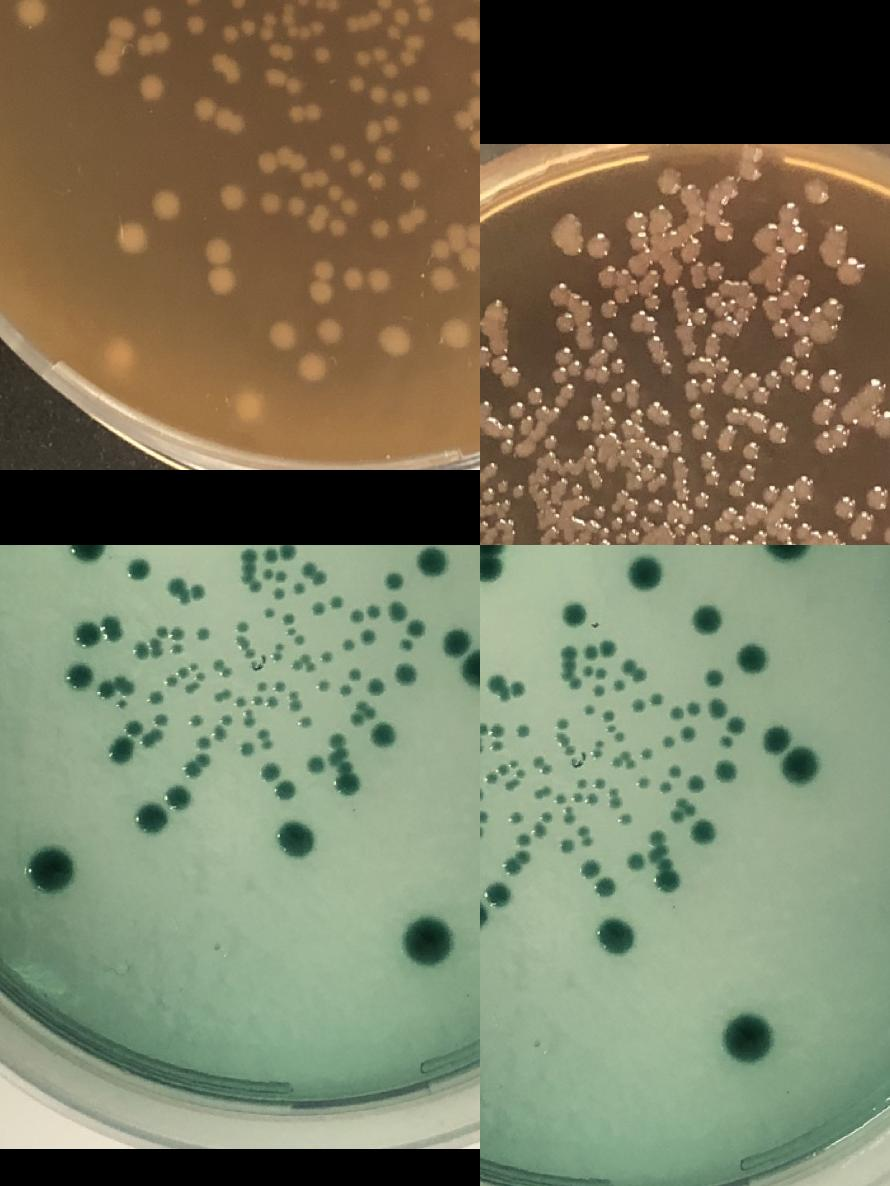pddamselae: (756, 721, 823, 786), (260, 10, 326, 63), (298, 168, 360, 217), (436, 624, 480, 689), (92, 14, 134, 74), (429, 221, 480, 266), (383, 0, 434, 41), (724, 1016, 770, 1060), (404, 920, 449, 964), (203, 236, 236, 295), (195, 97, 245, 132), (352, 44, 398, 80), (30, 849, 72, 888), (256, 144, 308, 175), (305, 744, 351, 776), (625, 842, 671, 874), (278, 822, 314, 856), (134, 802, 170, 836), (690, 604, 726, 638), (598, 919, 634, 953), (362, 112, 402, 142), (734, 640, 769, 674), (628, 556, 663, 590), (413, 545, 449, 577), (220, 16, 256, 44), (239, 550, 262, 593), (310, 258, 333, 300), (398, 32, 426, 66), (560, 647, 582, 690), (394, 204, 426, 232), (452, 97, 480, 128), (441, 318, 469, 348), (428, 263, 456, 293), (380, 326, 408, 356), (314, 313, 342, 343), (296, 354, 324, 384), (268, 318, 296, 348), (218, 180, 246, 210), (152, 190, 180, 220), (117, 221, 145, 251), (480, 545, 502, 583), (135, 30, 171, 53), (181, 752, 210, 780), (501, 849, 530, 877), (306, 201, 330, 233), (656, 857, 679, 890), (336, 760, 358, 794), (286, 101, 323, 121), (283, 613, 306, 645), (603, 710, 626, 742), (365, 0, 392, 27), (451, 20, 480, 43), (138, 75, 164, 99), (765, 545, 809, 558), (610, 750, 638, 770), (18, 0, 44, 21), (69, 545, 105, 560), (290, 653, 318, 672), (302, 563, 326, 584), (622, 660, 646, 681), (404, 617, 426, 639), (396, 662, 418, 684), (383, 569, 405, 591), (372, 724, 394, 746), (275, 779, 297, 801), (258, 761, 280, 783), (166, 785, 188, 807), (127, 558, 149, 580), (109, 741, 131, 763), (100, 616, 122, 638), (76, 622, 98, 644), (69, 664, 91, 686), (724, 714, 746, 736), (716, 759, 738, 781), (706, 698, 728, 720), (703, 666, 725, 688), (685, 774, 707, 796), (595, 876, 617, 898), (578, 858, 600, 880), (486, 882, 508, 904), (386, 601, 408, 622), (365, 678, 387, 699), (563, 602, 585, 623), (691, 822, 714, 842), (176, 660, 198, 679), (354, 700, 377, 718), (412, 84, 432, 104), (400, 170, 420, 190), (390, 88, 410, 108), (373, 144, 393, 164), (370, 270, 390, 290), (368, 83, 388, 103), (346, 158, 366, 178), (346, 74, 366, 94), (344, 267, 364, 287), (288, 195, 308, 215), (285, 75, 305, 95), (143, 7, 163, 27), (213, 658, 233, 678), (141, 728, 161, 748), (533, 755, 553, 775), (497, 757, 518, 776), (674, 798, 696, 816), (370, 219, 390, 238), (328, 218, 348, 237), (238, 638, 256, 659), (558, 735, 576, 756), (366, 170, 384, 190), (313, 46, 333, 64), (188, 12, 206, 32), (252, 694, 276, 709), (572, 791, 596, 806), (112, 678, 134, 694), (314, 0, 343, 12), (262, 194, 280, 213), (480, 899, 490, 933), (212, 687, 234, 702), (330, 142, 348, 160), (533, 784, 554, 799), (470, 56, 480, 87), (258, 728, 272, 750), (287, 690, 301, 711), (607, 787, 621, 808), (578, 825, 592, 846), (215, 0, 247, 9), (148, 637, 162, 657), (125, 720, 142, 736), (272, 642, 286, 661), (592, 739, 606, 758), (243, 709, 255, 728), (563, 806, 575, 825), (471, 130, 480, 150), (212, 727, 227, 739), (298, 715, 312, 727), (280, 545, 294, 557), (262, 548, 276, 560), (195, 735, 209, 747), (194, 670, 208, 682), (190, 584, 204, 596), (184, 682, 198, 694), (170, 581, 184, 593), (148, 691, 162, 703), (134, 645, 148, 657), (618, 812, 632, 824), (600, 642, 614, 654), (582, 702, 596, 714), (582, 645, 596, 657), (560, 839, 574, 851), (532, 824, 546, 836), (515, 832, 529, 844), (514, 767, 528, 779), (510, 681, 524, 693), (504, 779, 518, 791), (490, 678, 504, 690), (263, 605, 276, 617), (720, 735, 733, 747), (400, 638, 412, 650), (368, 605, 380, 617), (362, 629, 374, 641), (350, 714, 362, 726), (350, 610, 362, 622), (350, 667, 362, 679), (342, 639, 354, 651), (339, 684, 351, 696), (330, 596, 342, 608), (321, 650, 333, 662), (316, 680, 328, 692), (312, 602, 324, 614), (293, 581, 305, 593), (275, 569, 287, 581), (272, 679, 284, 691), (272, 587, 284, 599), (261, 567, 273, 579), (256, 680, 268, 692), (241, 742, 253, 754), (236, 620, 248, 632), (233, 696, 245, 708), (220, 713, 232, 725), (196, 627, 208, 639), (190, 715, 202, 727), (179, 593, 191, 605), (170, 643, 182, 655), (170, 628, 182, 640), (165, 674, 177, 686), (156, 626, 168, 638), (155, 714, 167, 726), (115, 698, 127, 710), (688, 702, 700, 714), (682, 726, 694, 738), (670, 811, 682, 823), (670, 707, 682, 719), (670, 764, 682, 776), (662, 736, 674, 748), (659, 781, 671, 793), (650, 693, 662, 705), (641, 747, 653, 759), (636, 777, 648, 789), (632, 699, 644, 711), (613, 678, 625, 690), (595, 666, 607, 678), (592, 776, 604, 788), (592, 684, 604, 696), (581, 664, 593, 676), (576, 777, 588, 789), (553, 793, 565, 805), (540, 810, 552, 822), (516, 724, 528, 736), (510, 812, 522, 824), (499, 690, 511, 702), (490, 740, 502, 752), (490, 725, 502, 737), (485, 771, 497, 783), (557, 717, 568, 729), (183, 0, 202, 6), (480, 723, 488, 735), (480, 811, 487, 823)
sinniae: (762, 268, 818, 394), (598, 505, 642, 545), (547, 276, 576, 336), (552, 345, 583, 399), (812, 421, 852, 456), (864, 479, 890, 526), (836, 257, 870, 291), (738, 438, 762, 483), (656, 164, 684, 198), (586, 226, 612, 260), (698, 449, 720, 489), (688, 401, 710, 440), (860, 376, 888, 406), (766, 418, 794, 446), (597, 326, 624, 354), (832, 492, 858, 520), (820, 366, 846, 394), (820, 296, 846, 324), (783, 227, 809, 255), (622, 206, 648, 234), (595, 296, 621, 324), (595, 262, 621, 290), (499, 364, 525, 392), (804, 177, 830, 204), (712, 217, 738, 244), (498, 476, 525, 500), (706, 258, 726, 280), (692, 304, 712, 326), (644, 290, 664, 312), (480, 341, 495, 370), (526, 383, 544, 407), (875, 408, 890, 436), (693, 490, 712, 512), (667, 429, 685, 451), (697, 524, 715, 545), (648, 496, 666, 514), (609, 385, 627, 403), (609, 355, 627, 373), (508, 401, 526, 419), (574, 412, 592, 429), (483, 459, 500, 477), (640, 464, 658, 480), (879, 520, 890, 545), (722, 424, 738, 440), (544, 432, 558, 450), (481, 484, 495, 502), (500, 437, 514, 454), (616, 488, 630, 502), (592, 504, 606, 518), (570, 481, 584, 495), (779, 539, 797, 545)
